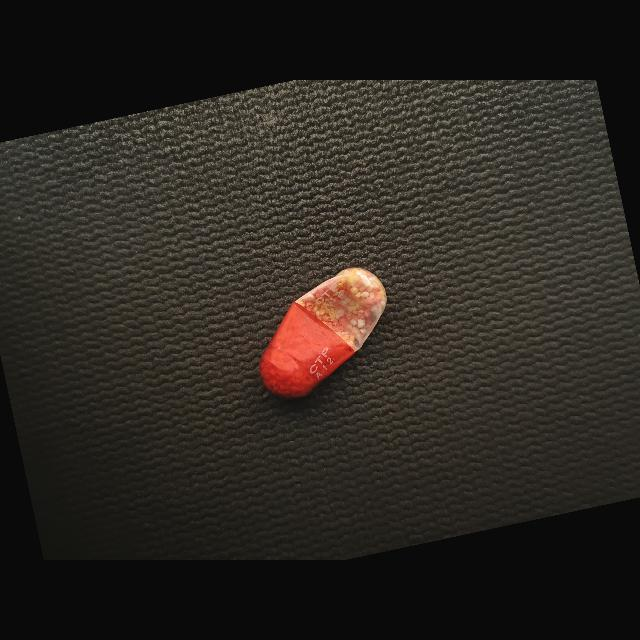Defective Capsule: (259, 267, 387, 398)
